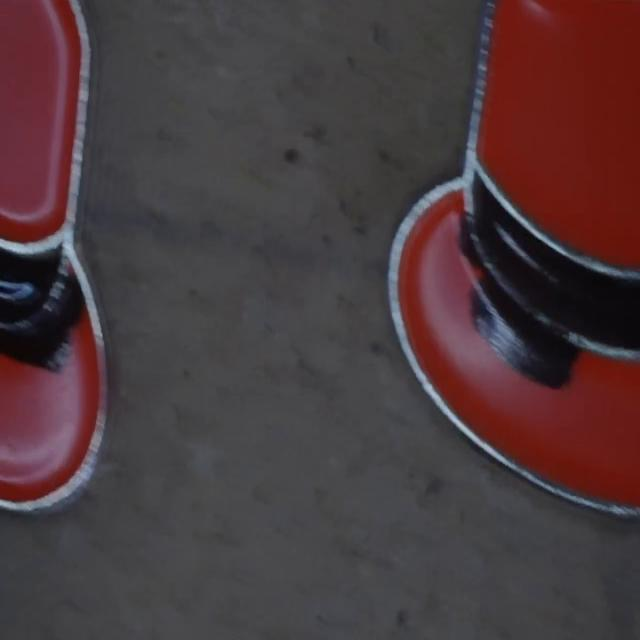Hatband: (469, 171, 639, 359)
Paint_Leak: (472, 269, 578, 389), (461, 220, 479, 264)
RedHatPin: (0, 0, 108, 511)
